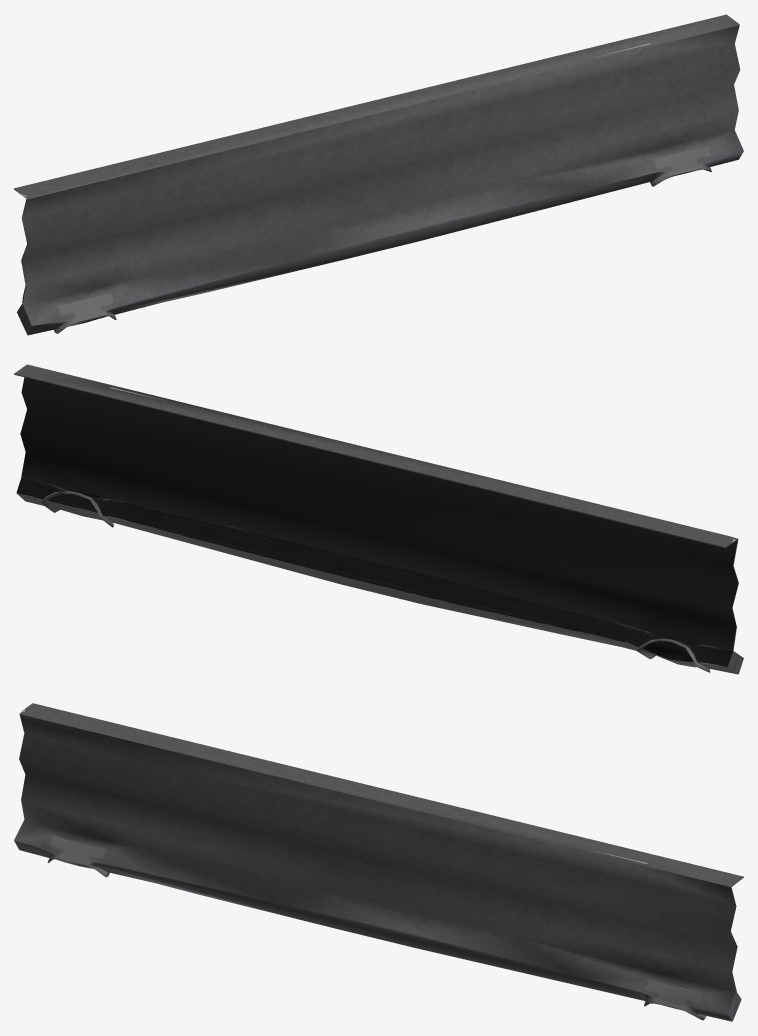
Rendered from schottis_plisowana_roleta_zaciemniajaca_90369507.glb.
3 renders of one model, top to bottom at view 1: azimuth 30°, elevation 25°; view 2: azimuth 150°, elevation 25°; view 3: azimuth 330°, elevation 25°, orthographic.
Visible parts, largest first — view 1: schottis_plisowana_roleta_zaciemniajaca_90369507; view 2: schottis_plisowana_roleta_zaciemniajaca_90369507; view 3: schottis_plisowana_roleta_zaciemniajaca_90369507.
Part boxes in pixels (box(x1,y1,x2,y2)): schottis_plisowana_roleta_zaciemniajaca_90369507: box(14, 14, 743, 335); schottis_plisowana_roleta_zaciemniajaca_90369507: box(14, 364, 743, 674); schottis_plisowana_roleta_zaciemniajaca_90369507: box(14, 703, 743, 1021).
Size of the model in its own units: 1 by 0.1919 by 0.0482.
Materials: 2 (2 with a texture image).
